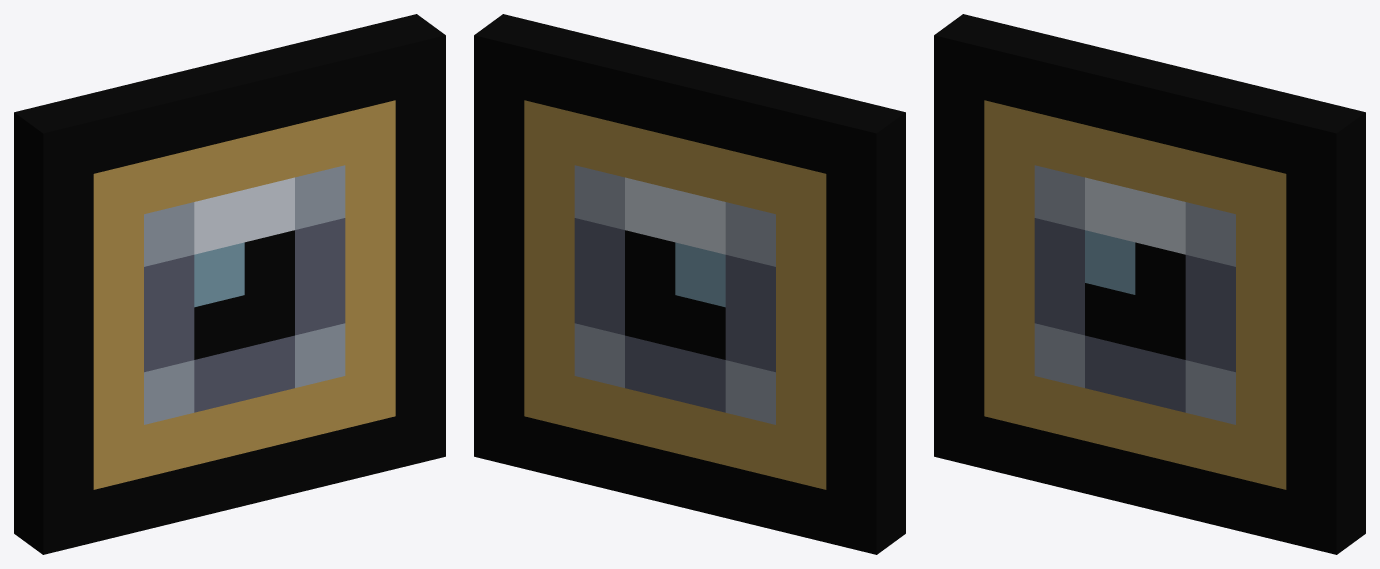
File: Horse Painting.glb
3 renders of one model, left to right at view 1: azimuth 30°, elevation 25°; view 2: azimuth 150°, elevation 25°; view 3: azimuth 330°, elevation 25°, orthographic.
Visible parts, largest first — view 1: generated(Clone); view 2: generated(Clone); view 3: generated(Clone).
Boxes of the visible parts, left/top/right/bottom form: generated(Clone): left=14, top=14, right=445, bottom=554; generated(Clone): left=474, top=14, right=905, bottom=554; generated(Clone): left=934, top=14, right=1365, bottom=554.
Size of the model in its own units: 8 by 8 by 1.
Materials: 1 (1 with a texture image).
